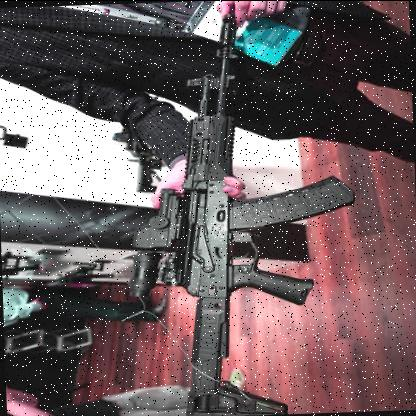rifle: (96, 32, 353, 416)
